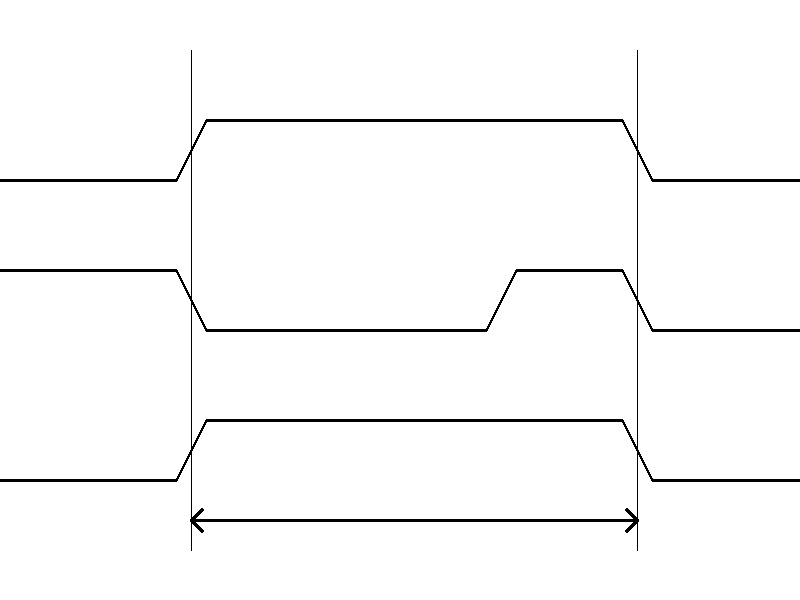double_arrow: (191, 505, 637, 535)
